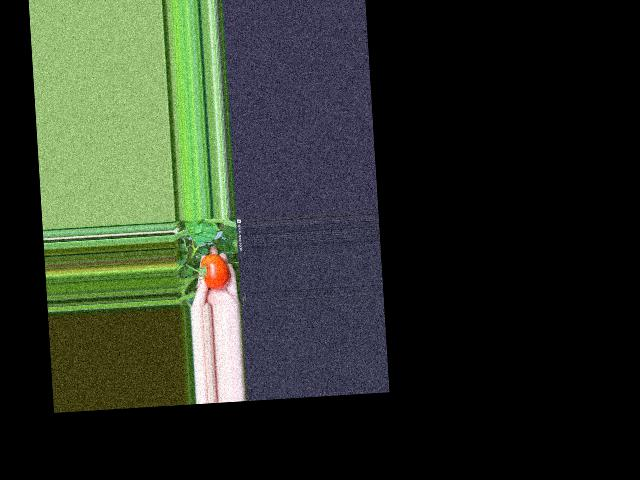tomato: (201, 253, 230, 291)
